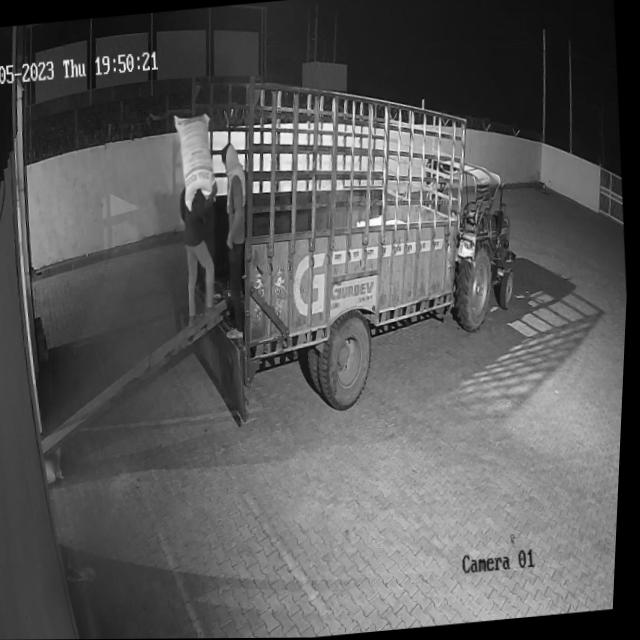sack: (172, 111, 220, 211)
